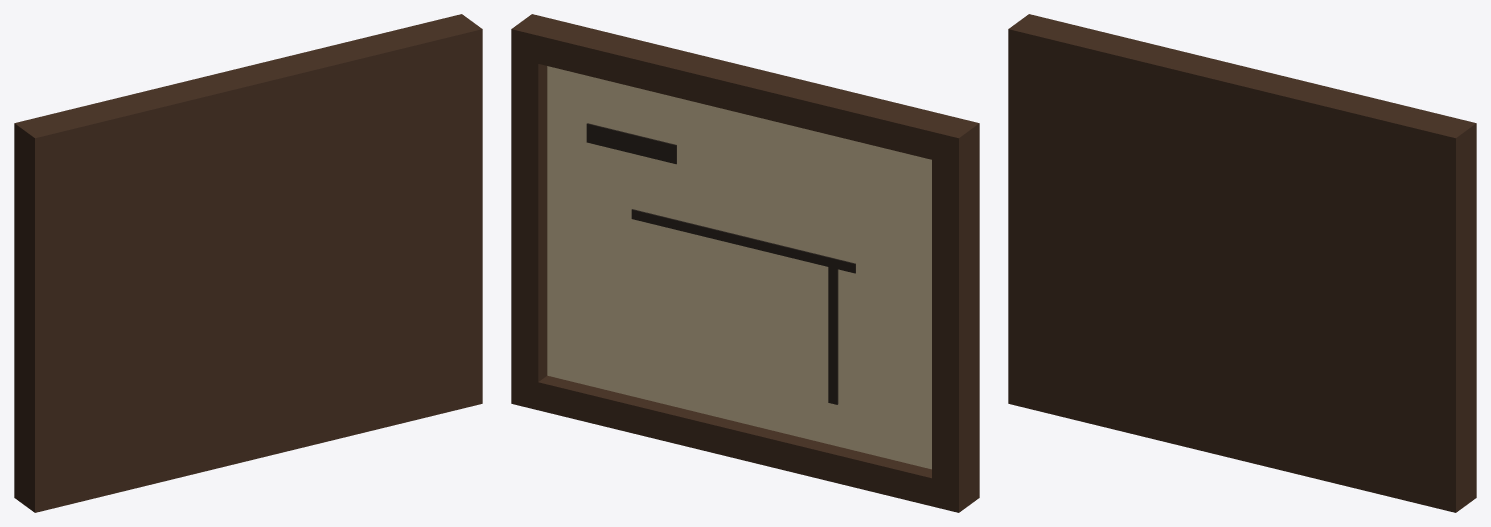
File: furniture_paper_painting.glb
The picture shows the model from 3 angles, left to right: view 1: azimuth 30°, elevation 25°; view 2: azimuth 150°, elevation 25°; view 3: azimuth 330°, elevation 25°; orthographic projection.
Parts seen in each view (by area): view 1: PROP_PaperPainting; view 2: PROP_PaperPainting; view 3: PROP_PaperPainting.
Part boxes in pixels (x1,y1,x2,y2): PROP_PaperPainting: [14, 14, 482, 512]; PROP_PaperPainting: [511, 14, 979, 512]; PROP_PaperPainting: [1008, 14, 1476, 512].
Size of the model in its own units: 1 by 0.8 by 0.08.
